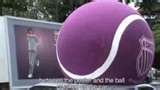tennis ball: (56, 1, 156, 89)
